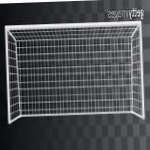goals: (1, 20, 148, 129)
